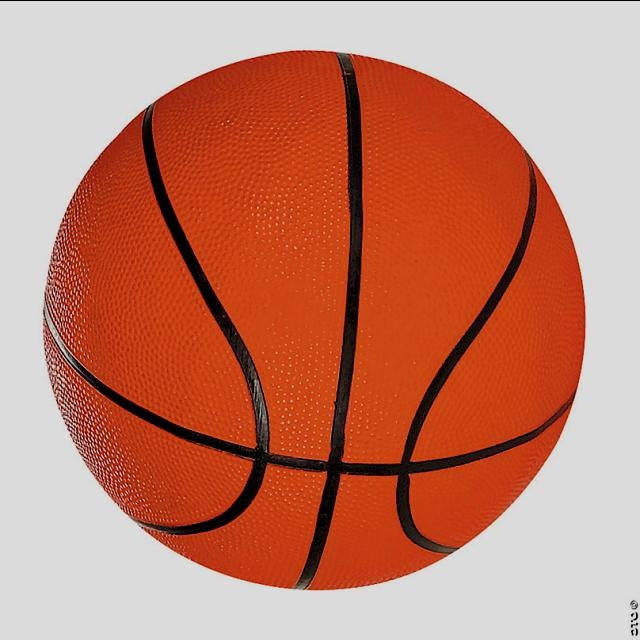agrume: (37, 43, 575, 569)
